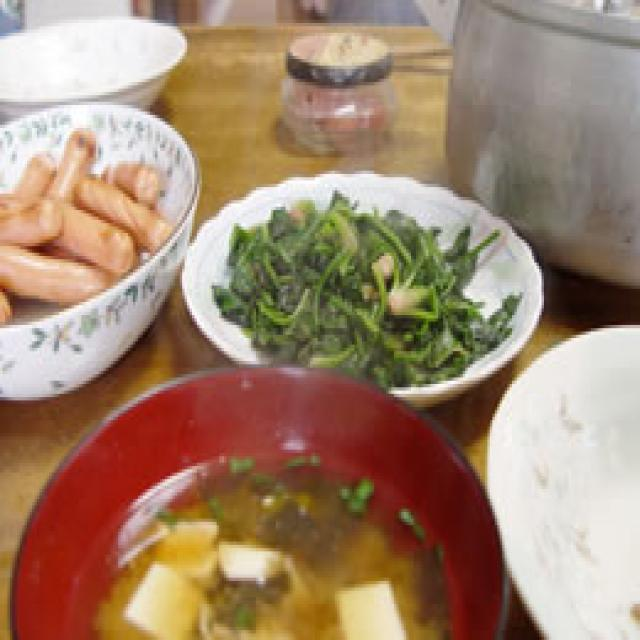蔬菜料理: (177, 174, 576, 427)
